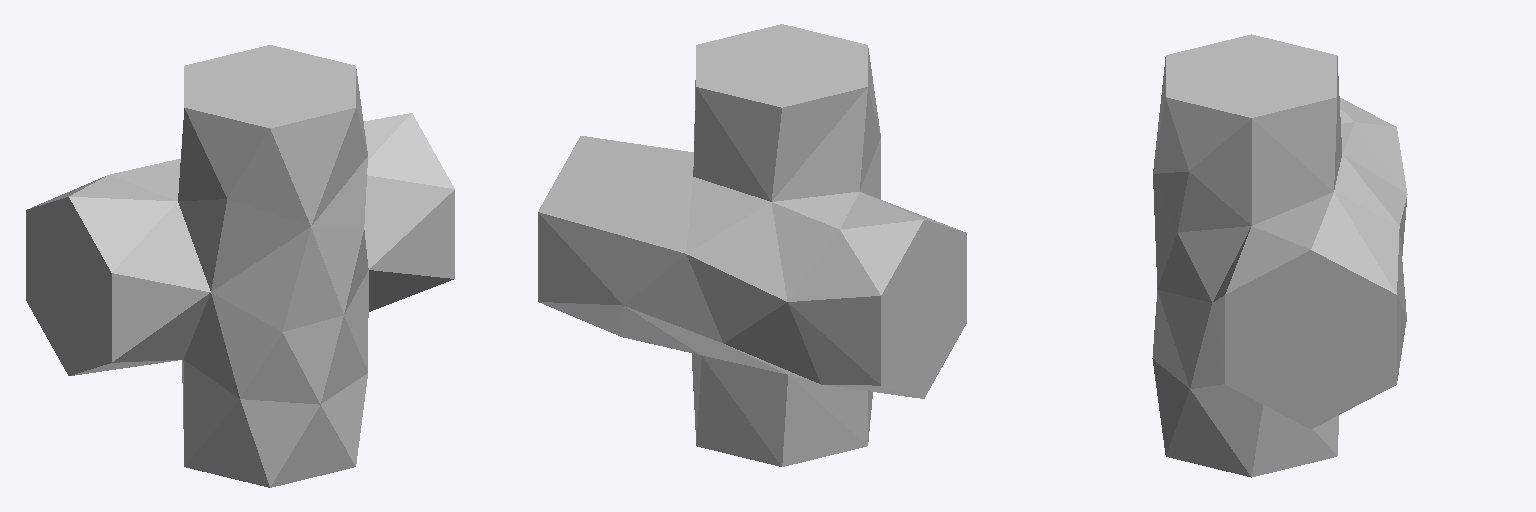
File: twocyl.obj
3 views of the same model, side by side, from view 1: azimuth 30°, elevation 25°; view 2: azimuth 150°, elevation 25°; view 3: azimuth 270°, elevation 25° (orthographic).
Size of the model in its own units: 2 by 2 by 1.29.